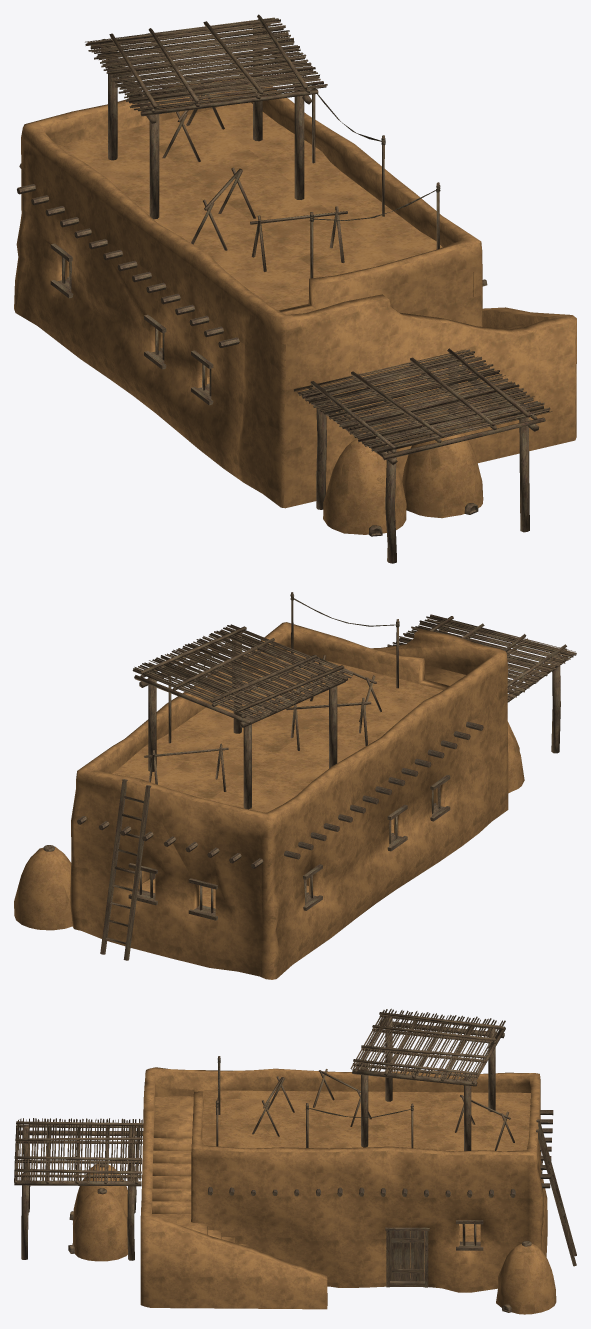
File: adb_house_4.glb
The picture shows the model from 3 angles, top to bottom: view 1: azimuth 30°, elevation 25°; view 2: azimuth 150°, elevation 25°; view 3: azimuth 270°, elevation 25°; orthographic projection. The views are drawn at different scales.
Parts seen in each view (by area): view 1: adb_house_4; view 2: adb_house_4; view 3: adb_house_4.
Part boxes in pixels (left/top/right/bottom): adb_house_4: left=14, top=14, right=576, bottom=563; adb_house_4: left=14, top=592, right=576, bottom=979; adb_house_4: left=14, top=1008, right=576, bottom=1314.
Size of the model in its own units: 4.31 by 3.53 by 8.77.
3 materials, 3 textured.
